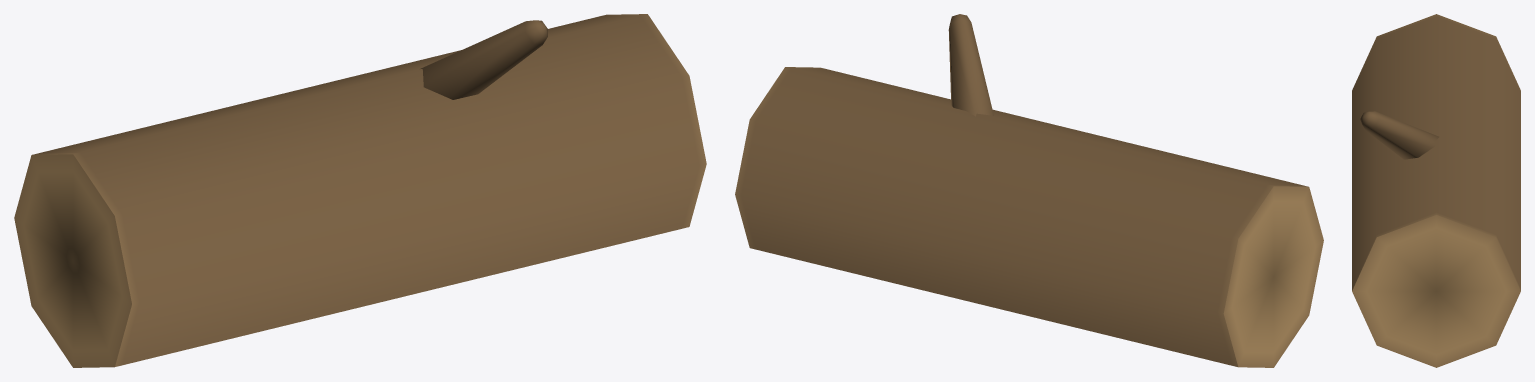
Rendered from prop_log12_0a56.glb.
3 renders of one model, left to right at view 1: azimuth 30°, elevation 25°; view 2: azimuth 150°, elevation 25°; view 3: azimuth 270°, elevation 25°, orthographic. The views are drawn at different scales.
Parts seen in each view (by area): view 1: prop_log12_0a56; view 2: prop_log12_0a56; view 3: prop_log12_0a56.
Boxes of the visible parts, bbox=[...] form: prop_log12_0a56: bbox=[14, 14, 706, 367]; prop_log12_0a56: bbox=[735, 14, 1323, 367]; prop_log12_0a56: bbox=[1352, 14, 1520, 367].
Bounding box in the file's own units: 0.7955 × 0.3711 × 0.2828.
1 material, 1 textured.
